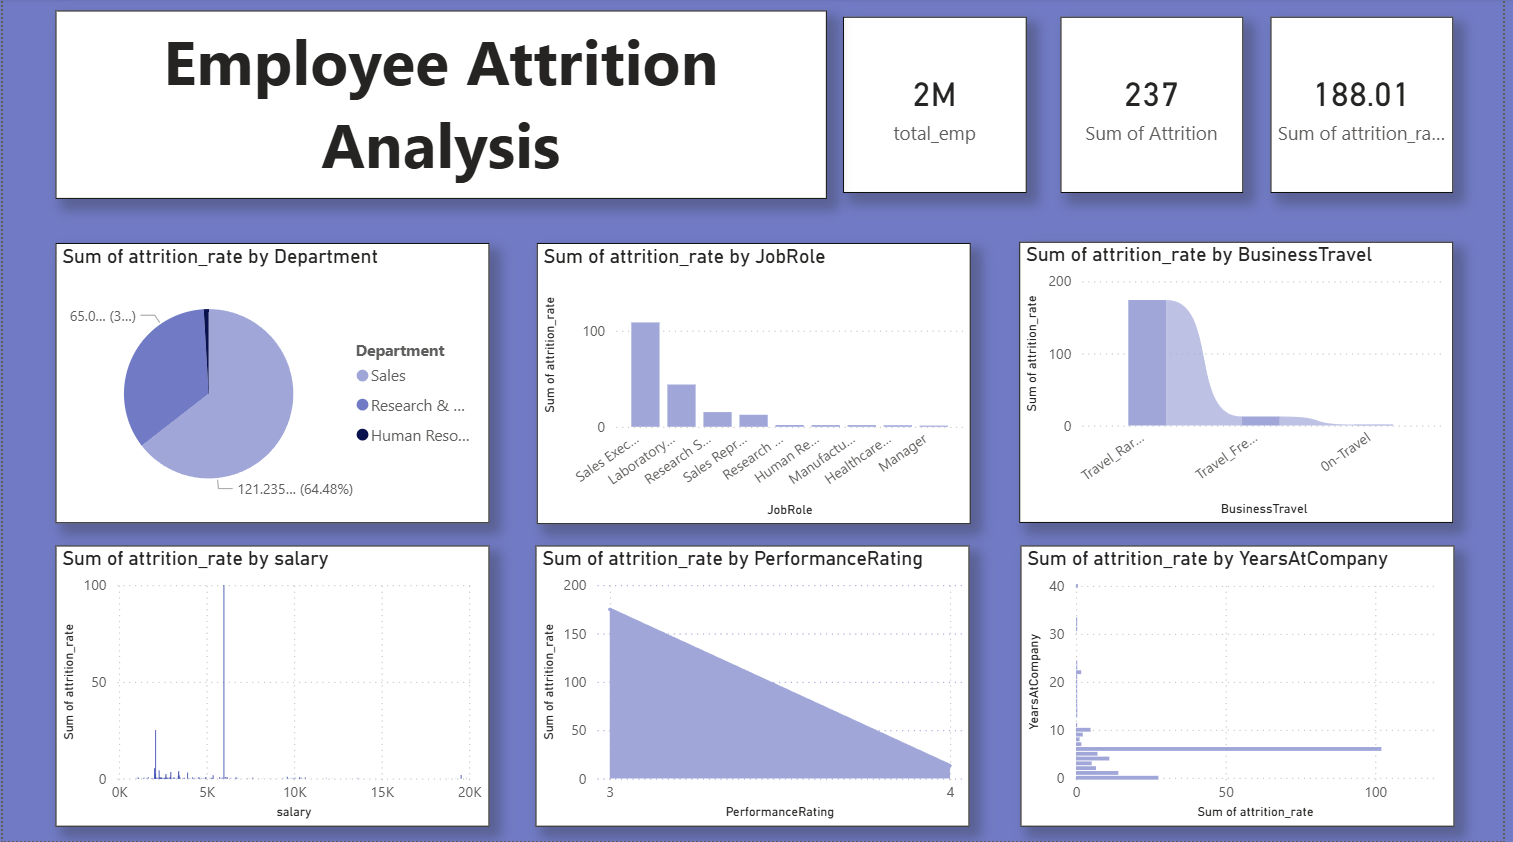

The dashboard page shown, as its layout file describes it:
{"tool":"powerbi","page":{"name":"Page 1","canvas":[1280,720],"ordinal":0},"visuals":[{"type":"pieChart","fields":{"Category":["employee_attrition.Department"],"Y":["Sum(attritions.attrition_rate)"]},"box":[44.8,209.1,370.2,239],"z":0},{"type":"card","fields":{"Values":["employee_attrition.total_emp"]},"box":[717.4,16.3,157,150],"z":1000},{"type":"card","fields":{"Values":["Sum(attritions.Attrition)"]},"box":[902.3,16.3,155.8,150],"z":2000},{"type":"card","fields":{"Values":["Sum(attritions.attrition_rate)"]},"box":[1081.4,16.3,155.8,150],"z":3000},{"type":"columnChart","fields":{"Y":["Sum(attritions.attrition_rate)"],"Category":["employee_attrition.JobRole"]},"box":[455.6,209.1,370.2,240.1],"z":4000},{"type":"ribbonChart","fields":{"Category":["salary.salary"],"Y":["Sum(attritions.attrition_rate)"]},"box":[44.8,467.3,370.2,240.1],"z":5000},{"type":"areaChart","fields":{"Category":["performances.PerformanceRating"],"Y":["Sum(attritions.attrition_rate)"]},"box":[454.5,467.3,370.2,240.1],"z":6000},{"type":"textbox","box":[44.8,10.7,658.3,161.1],"z":7000},{"type":"clusteredBarChart","fields":{"Category":["employee_attrition.YearsAtCompany"],"Y":["Sum(attritions.attrition_rate)"]},"box":[868.5,467.3,370.2,240.1],"z":7001},{"type":"ribbonChart","fields":{"Category":["employee_attrition.BusinessTravel"],"Y":["Sum(attritions.attrition_rate)"]},"box":[867.5,208.1,370.2,240.1],"z":7002}]}

Visuals, with their boxes in screenshot pixels (x1, y1, x2, y2), scaled from the page's 1280x720 canvas onto the 1513x842 screenshot:
pieChart - employee_attrition.Department x Sum(attritions.attrition_rate): 53,245,491,524
card - employee_attrition.total_emp: 848,19,1034,194
card - Sum(attritions.Attrition): 1067,19,1251,194
card - Sum(attritions.attrition_rate): 1278,19,1462,194
columnChart - Sum(attritions.attrition_rate) x employee_attrition.JobRole: 539,245,976,525
ribbonChart - salary.salary x Sum(attritions.attrition_rate): 53,546,491,827
areaChart - performances.PerformanceRating x Sum(attritions.attrition_rate): 537,546,975,827
textbox: 53,13,831,201
clusteredBarChart - employee_attrition.YearsAtCompany x Sum(attritions.attrition_rate): 1027,546,1464,827
ribbonChart - employee_attrition.BusinessTravel x Sum(attritions.attrition_rate): 1025,243,1463,524
